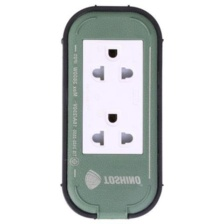three_eye_plug: (55, 2, 168, 223)
